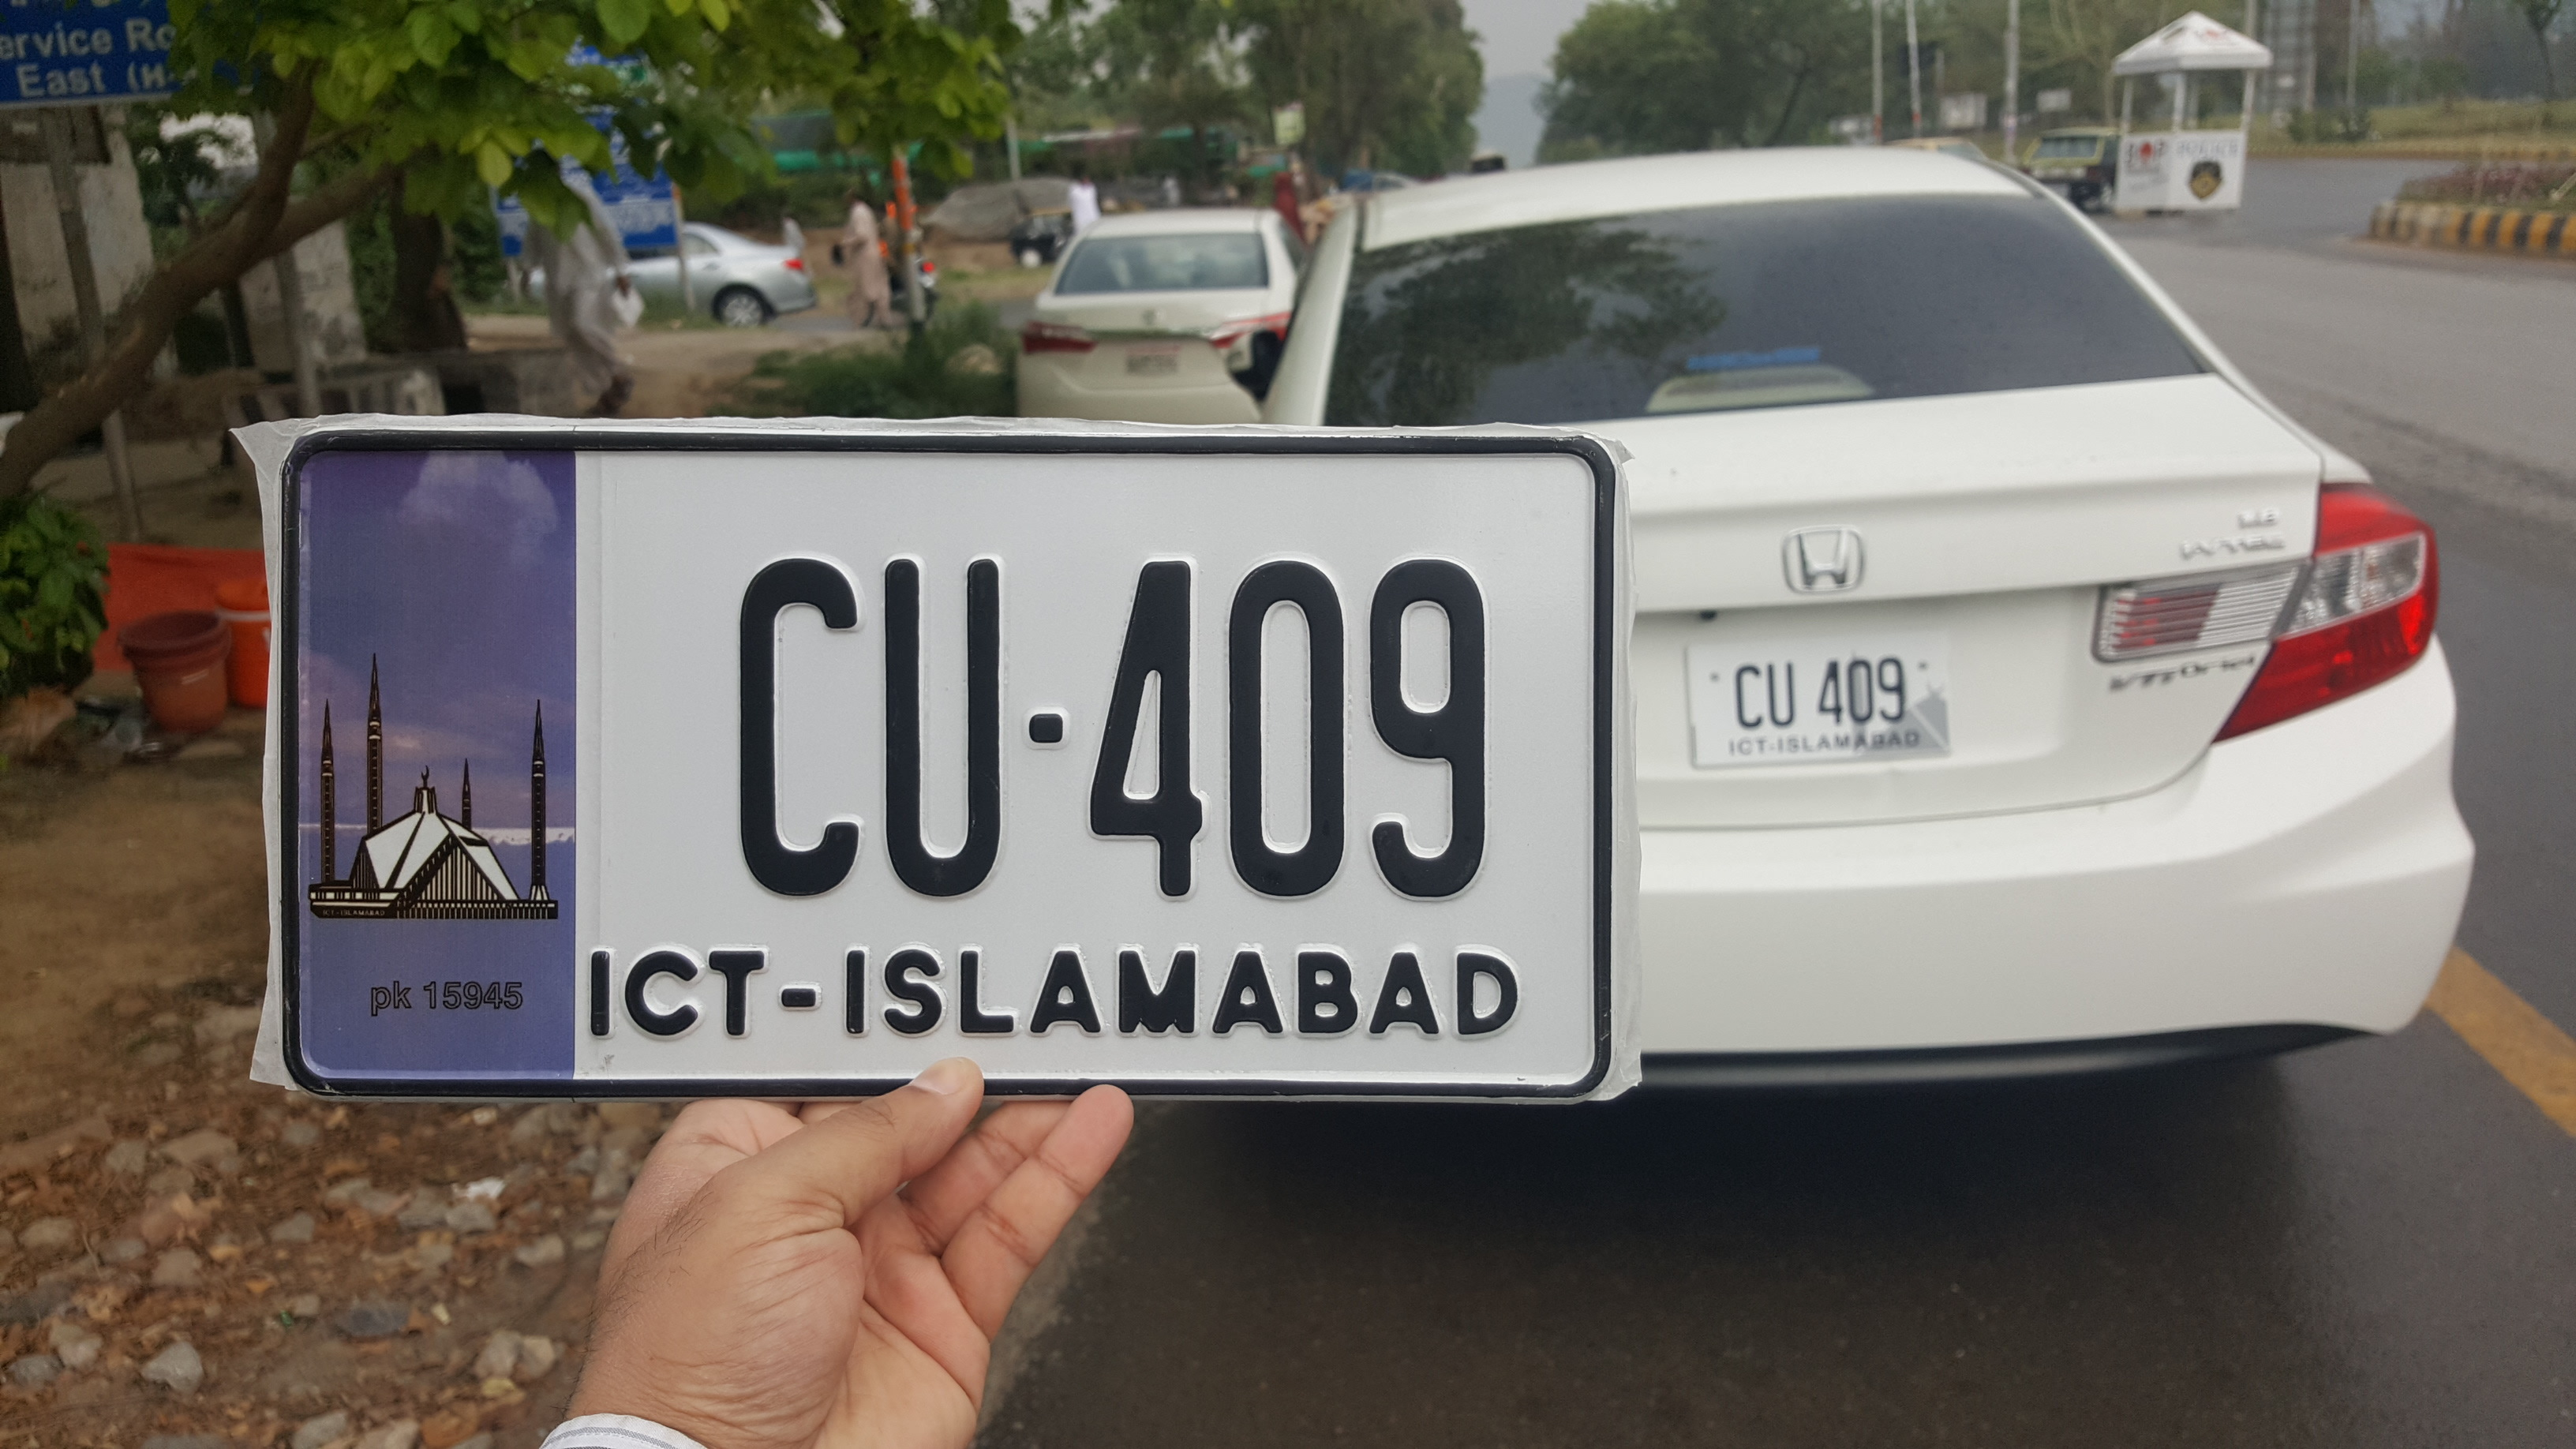plate: (265, 424, 1631, 1110), (1673, 619, 1965, 774)
